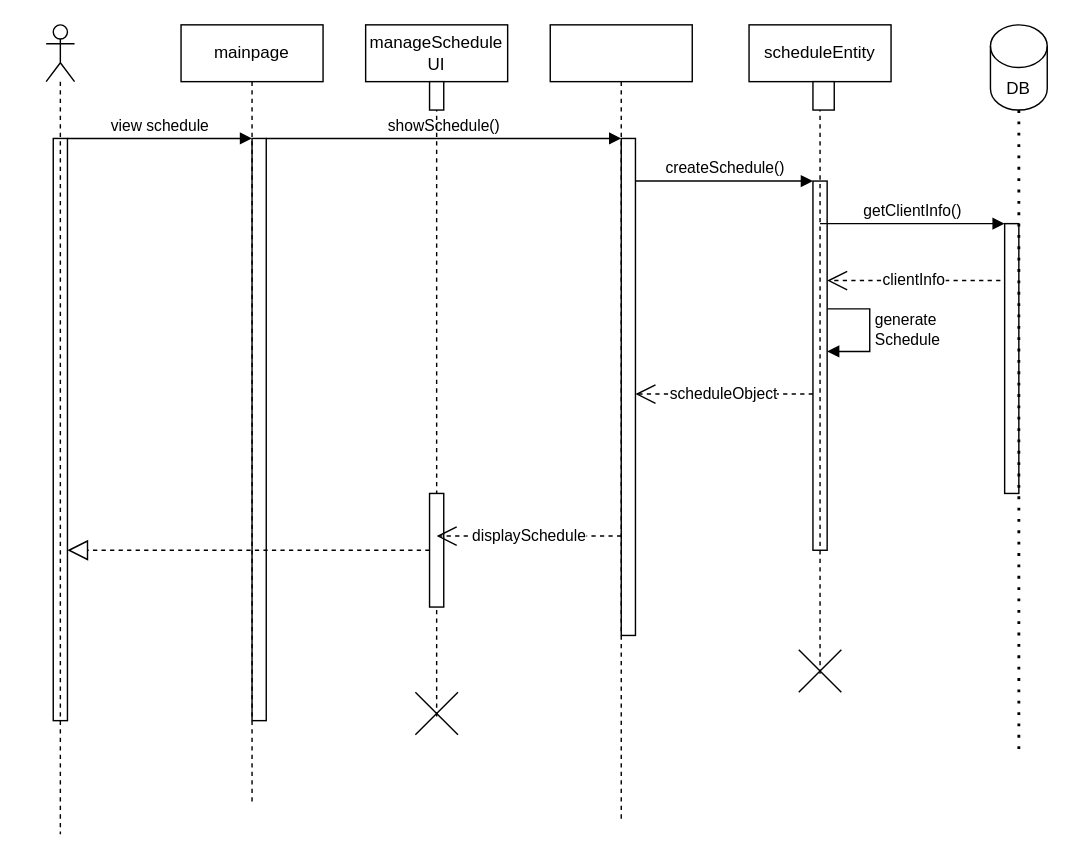
Image size: 1085x859. Some labels were removed from this diagram. Each missing label, with the box of its shape:
manage controller: (549, 23, 692, 820)
user visitor: (45, 23, 75, 834)
